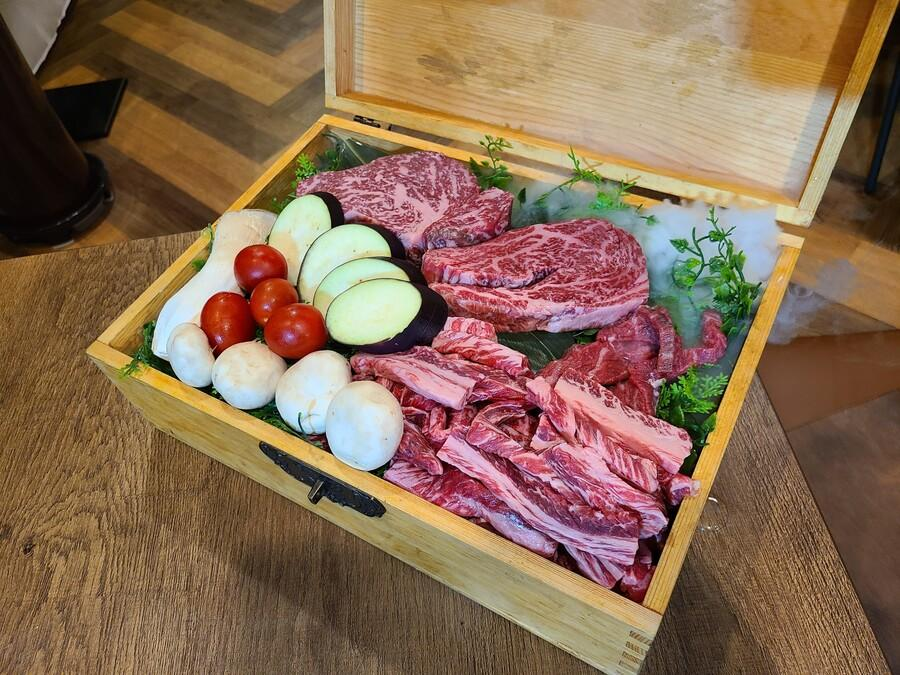beef: (686, 413, 900, 565), (638, 248, 890, 335)
